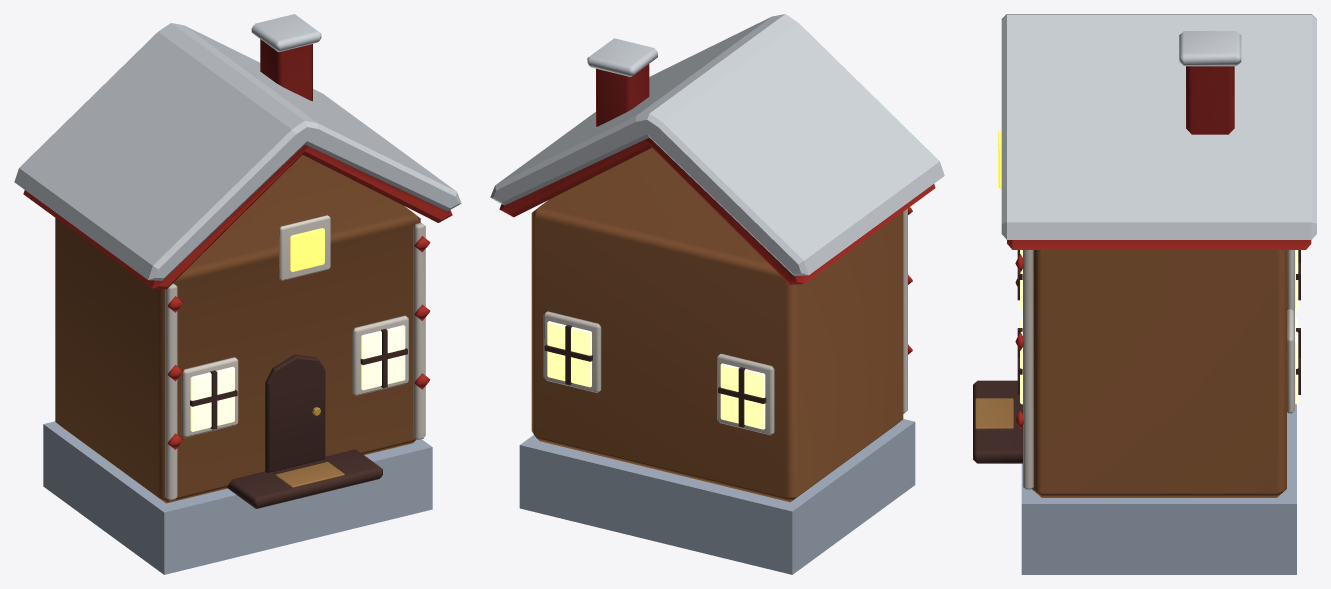
The model's file is house_b.glb.
The picture shows the model from 3 angles, left to right: view 1: azimuth 30°, elevation 25°; view 2: azimuth 150°, elevation 25°; view 3: azimuth 270°, elevation 25°; orthographic projection. The views are drawn at different scales.
Visible parts, largest first — view 1: house_b; view 2: house_b; view 3: house_b.
Boxes of the visible parts, <box> form: house_b: <box>14,14,461,574</box>; house_b: <box>490,14,944,574</box>; house_b: <box>973,14,1316,574</box>.
Bounding box in the file's own units: 5.26 × 7.01 × 4.38.
